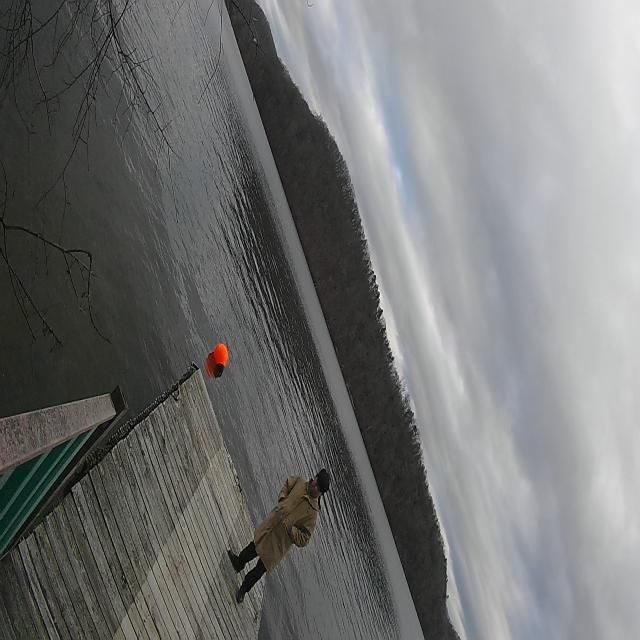Buoy: (214, 342, 228, 378)
